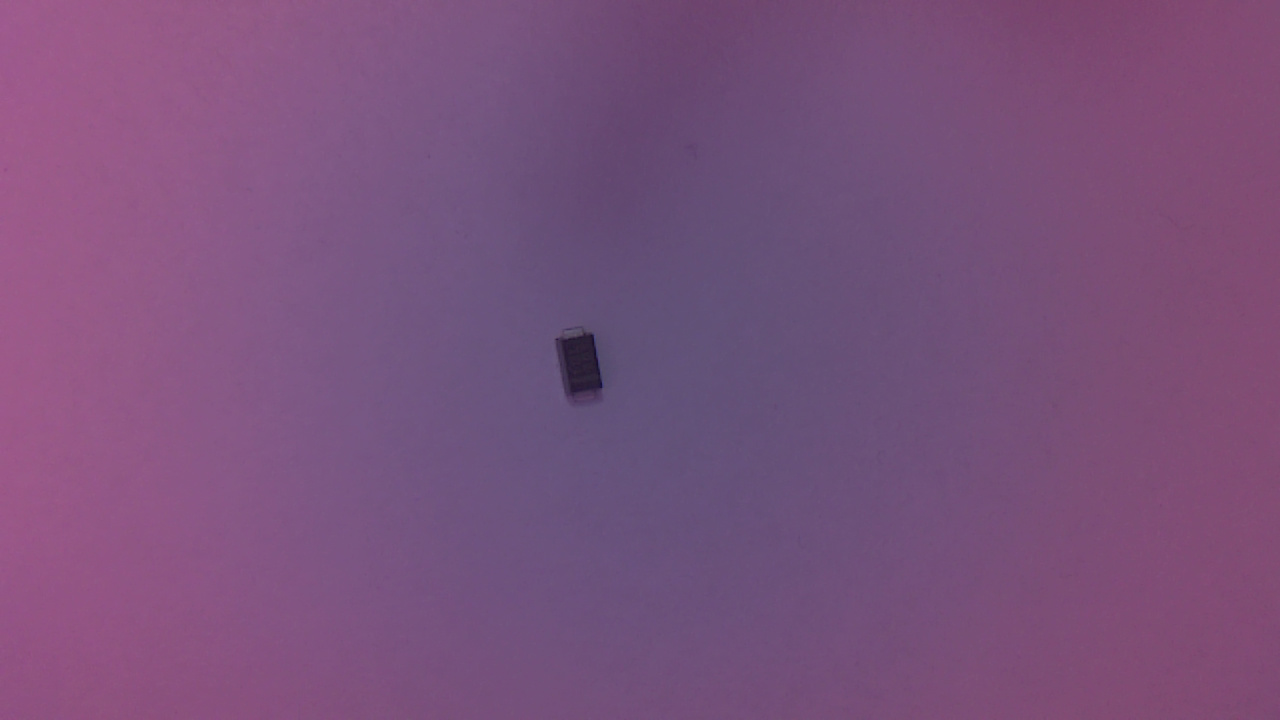Diode: (550, 330, 618, 415)
